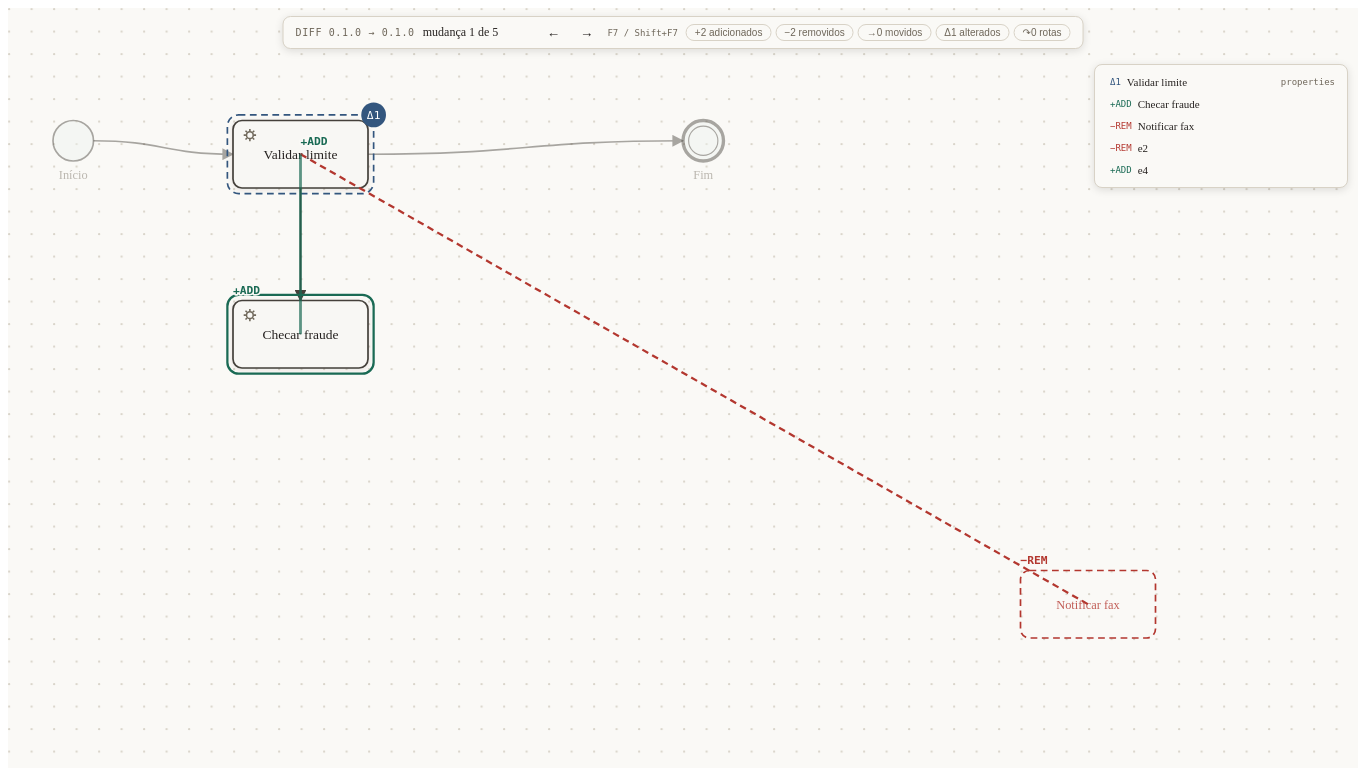
it: diff navigation (spec 2b) › chips filter with counts; M recalcula e o item atual sobrevive com novo N
Expected: the button "+2 adicionados" is shown, [686,24,771,41]
Expected: the button "−2 removidos" is shown, [775,24,854,41]
// Navigate to the CHANGED entry (limit — first in topological order).
Press F7
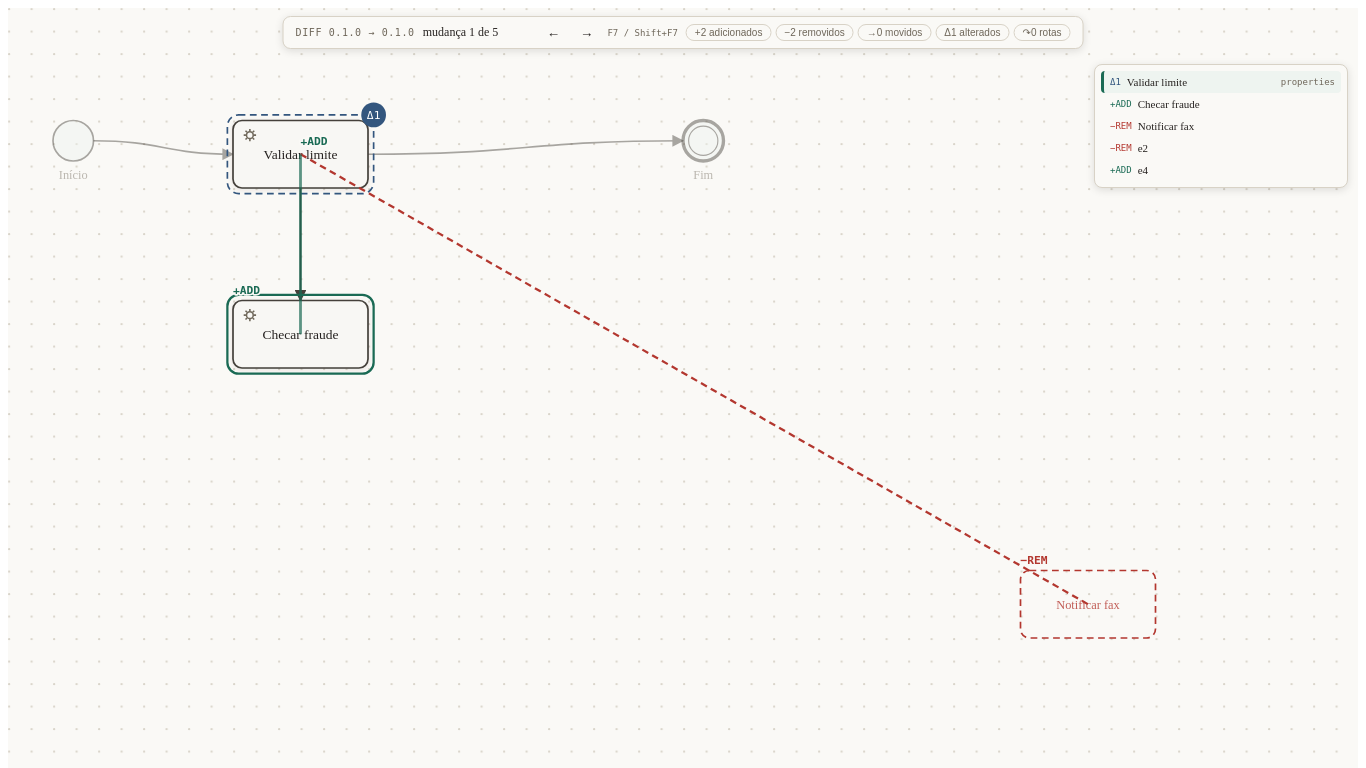
Now the option "Δ1 Validar limite properties" is selected, box [1101,71,1341,93]
Click the button "Δ1 alterados".
click(972, 32)  # box [935,24,1010,41]
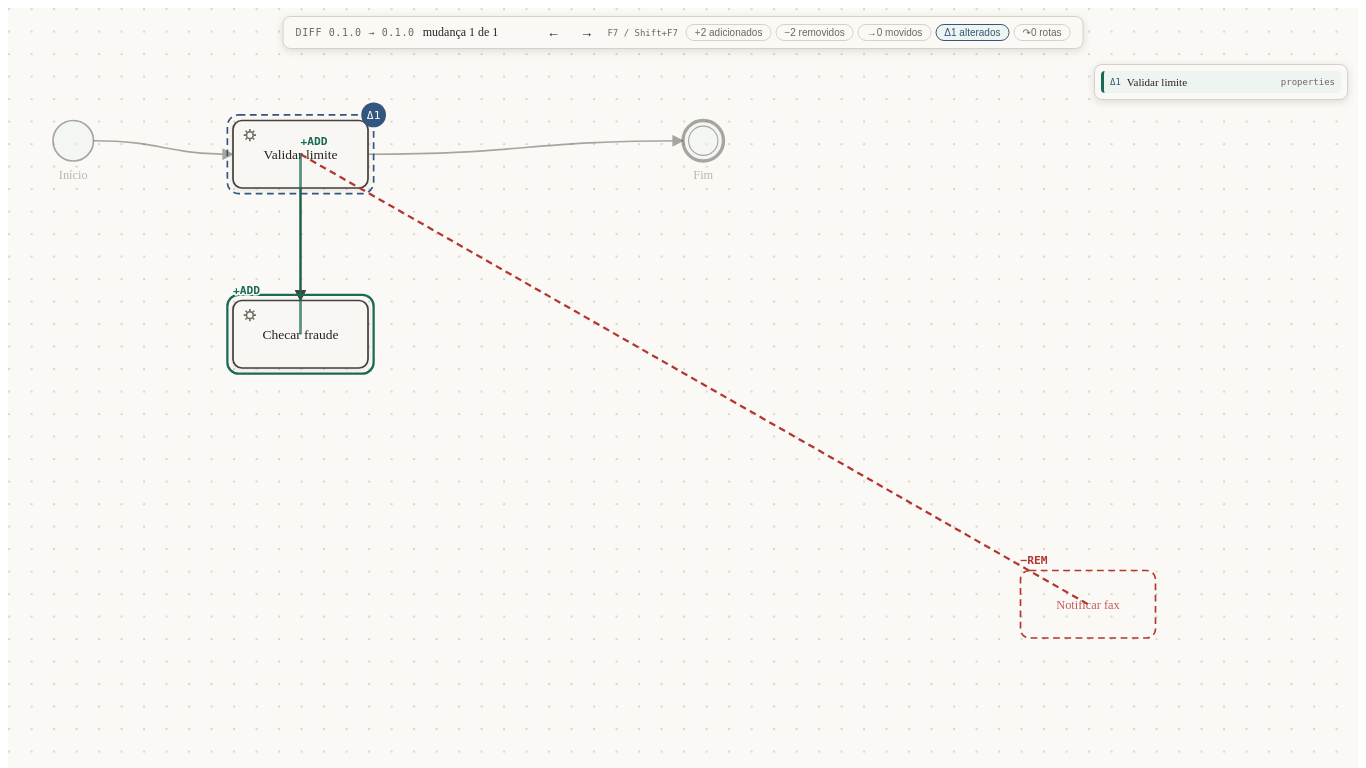
Now the number of options is 1, box [1101,71,1341,93]
Now the text with test id "diff-nav-counter" reads "mudança 1 de 1", box [423,25,498,39]
Click the button "+2 adicionados".
click(729, 32)  # box [686,24,771,41]
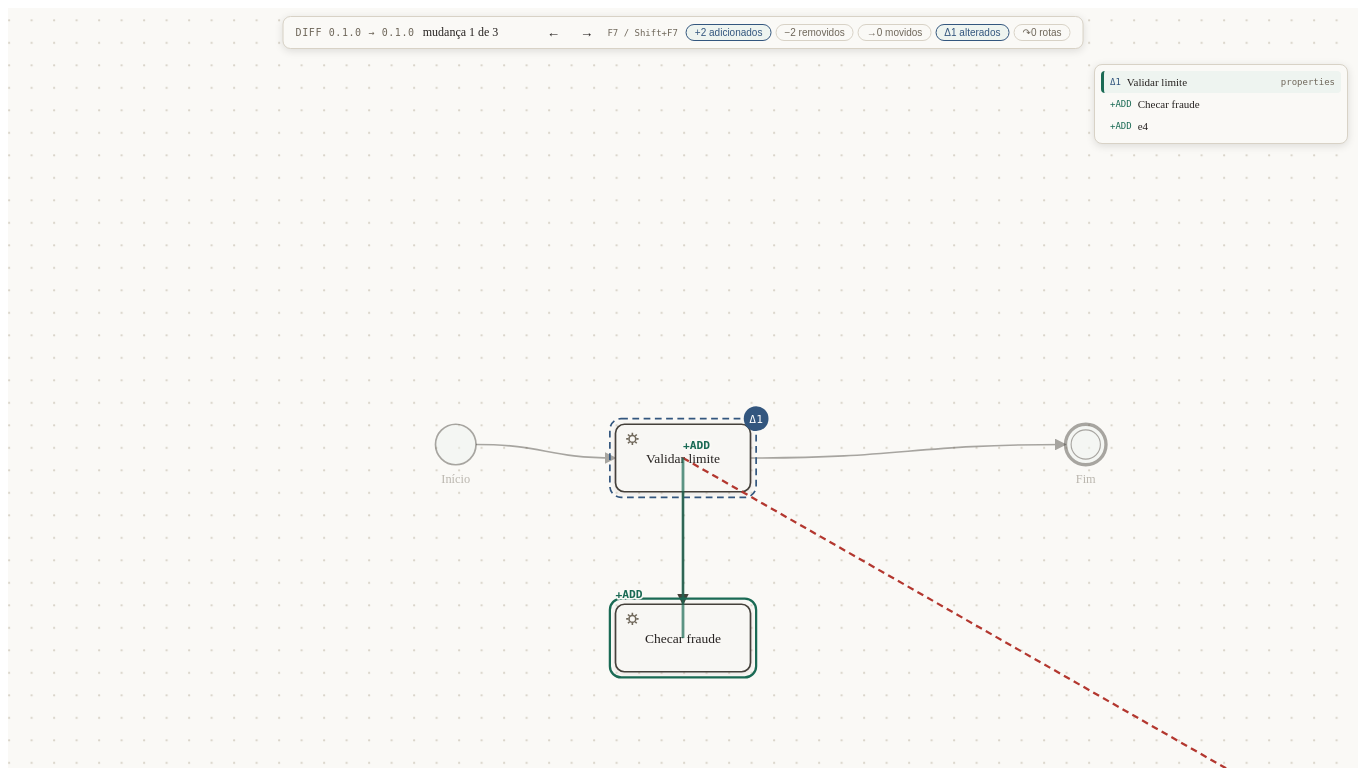
Now the text with test id "diff-nav-counter" shows "de 3", box [423,25,498,39]
